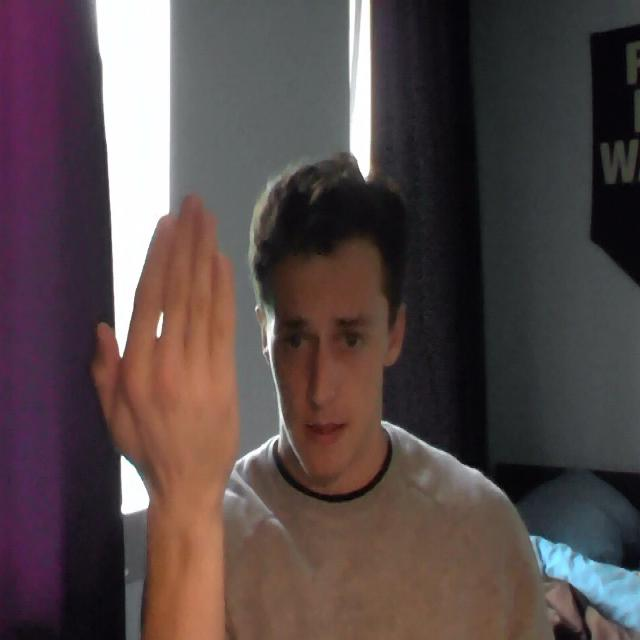forward: (84, 179, 253, 493)
